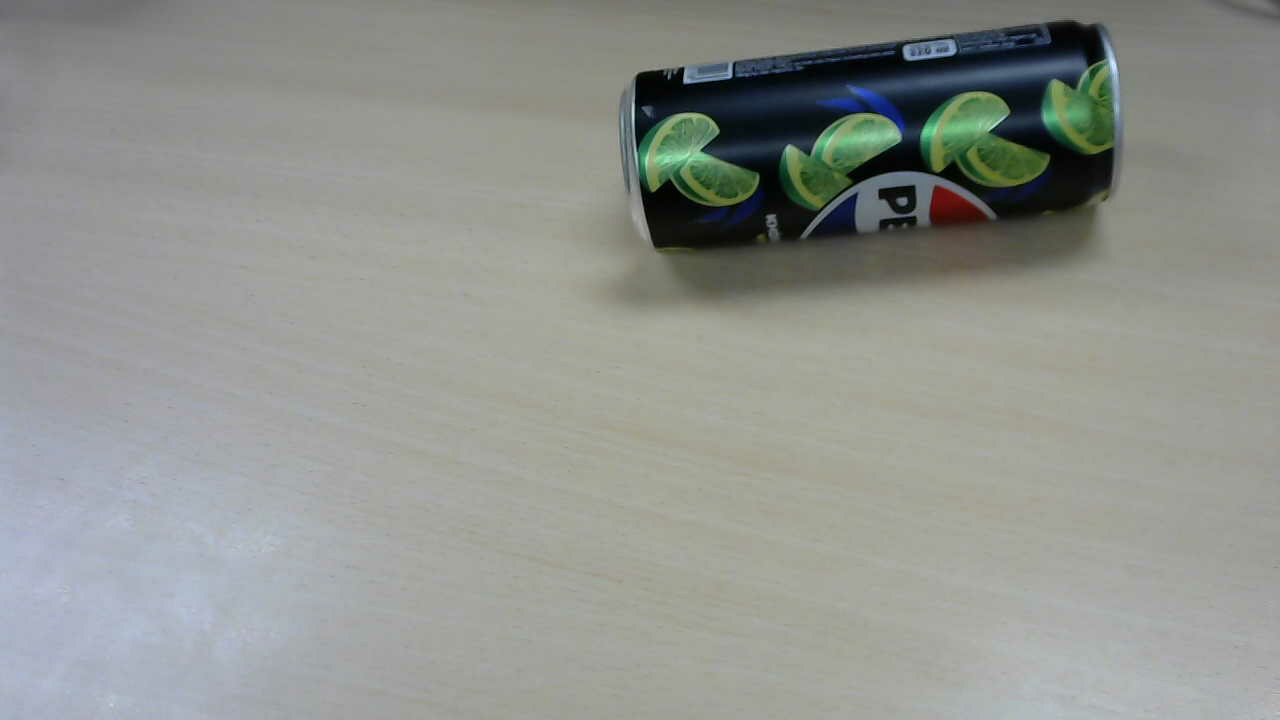Pepsi: (630, 23, 1126, 252)
